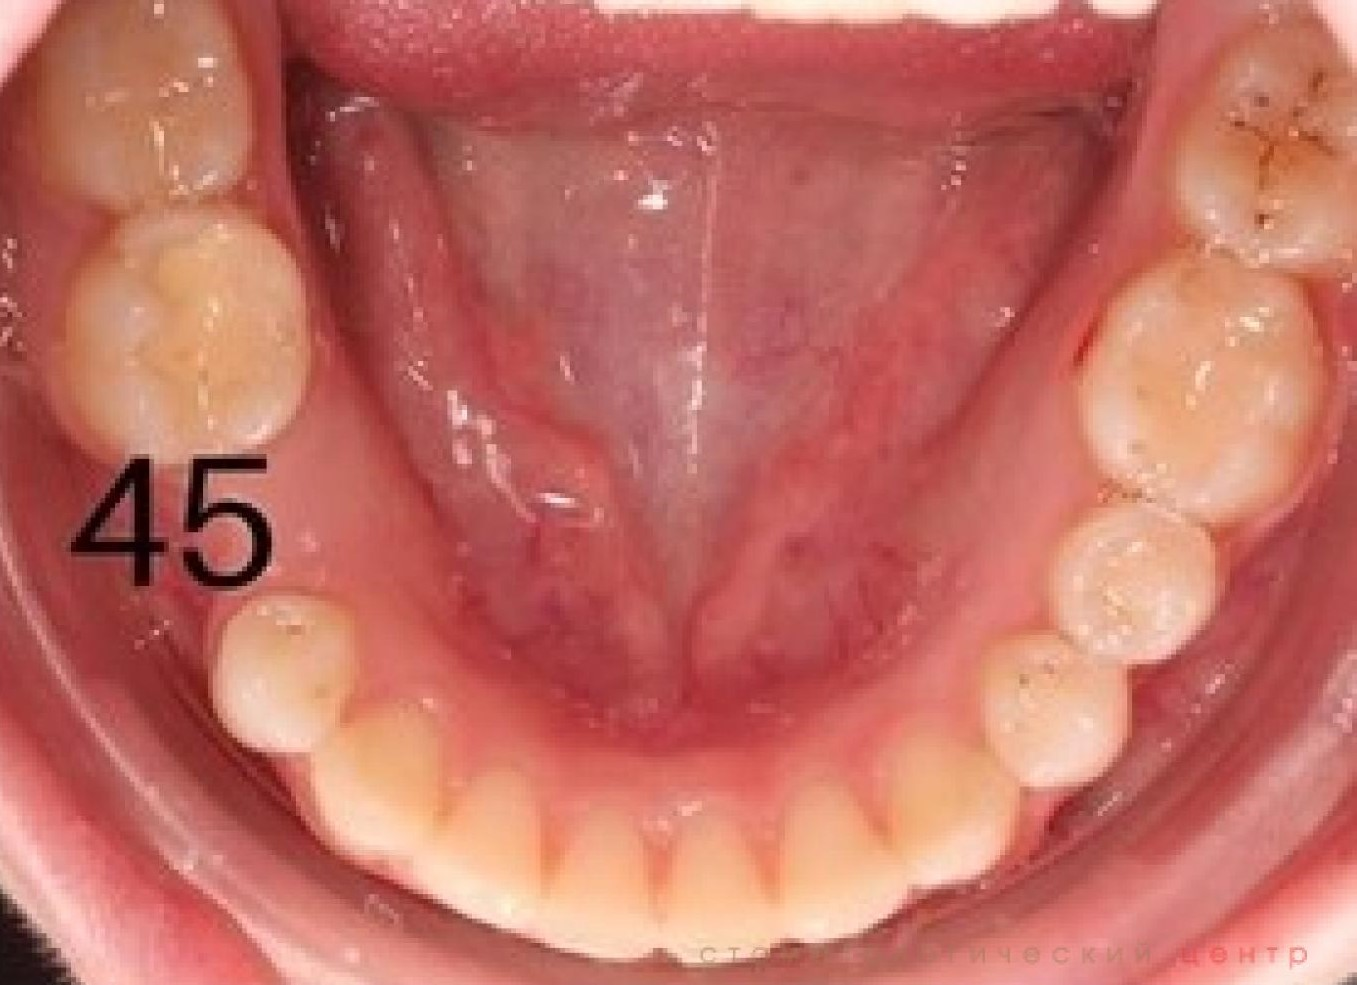LL1BC_decay: (973, 632, 1132, 781)
LL1M_healthy: (1066, 247, 1323, 518)
LL2BC_healthy: (1051, 503, 1218, 664)
LL2M_decay: (1171, 26, 1357, 275)
LLCI_healthy: (656, 812, 776, 972)
LLC_healthy: (874, 727, 1022, 892)
LLLI_healthy: (773, 779, 905, 951)
LR1BC_decay: (208, 589, 362, 750)
LR1M_decay: (63, 212, 312, 475)
LR2M_healthy: (38, 1, 261, 211)
LRCI_healthy: (533, 808, 657, 969)
LRC_healthy: (310, 704, 447, 863)
LRLI_healthy: (418, 767, 549, 932)
